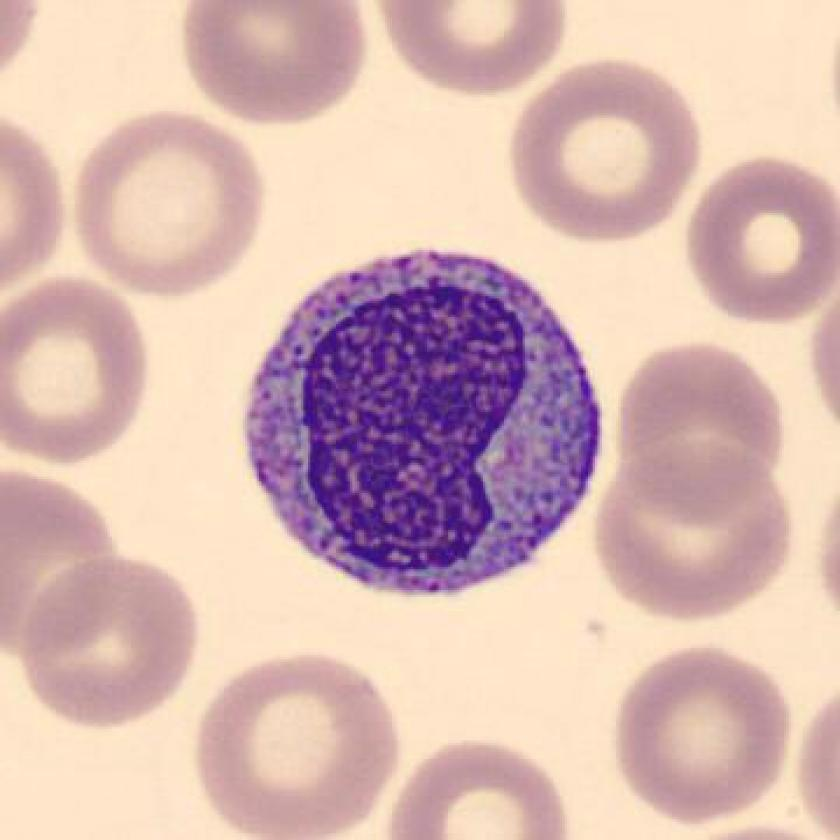monocyte: (218, 226, 626, 621)
